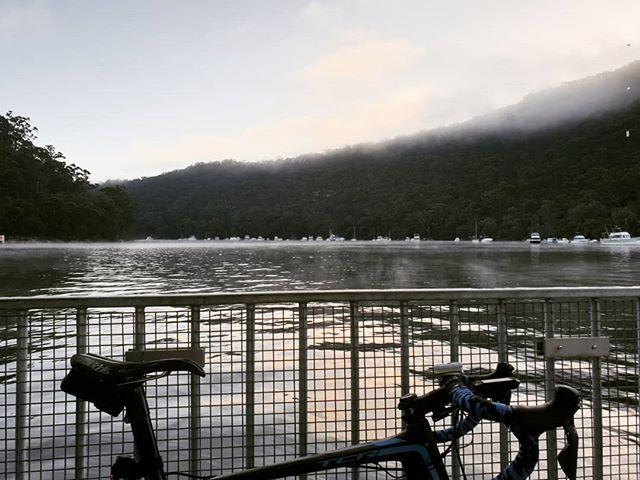bicicle: (55, 345, 546, 480)
river: (7, 245, 640, 399)
sky: (1, 1, 640, 163)
